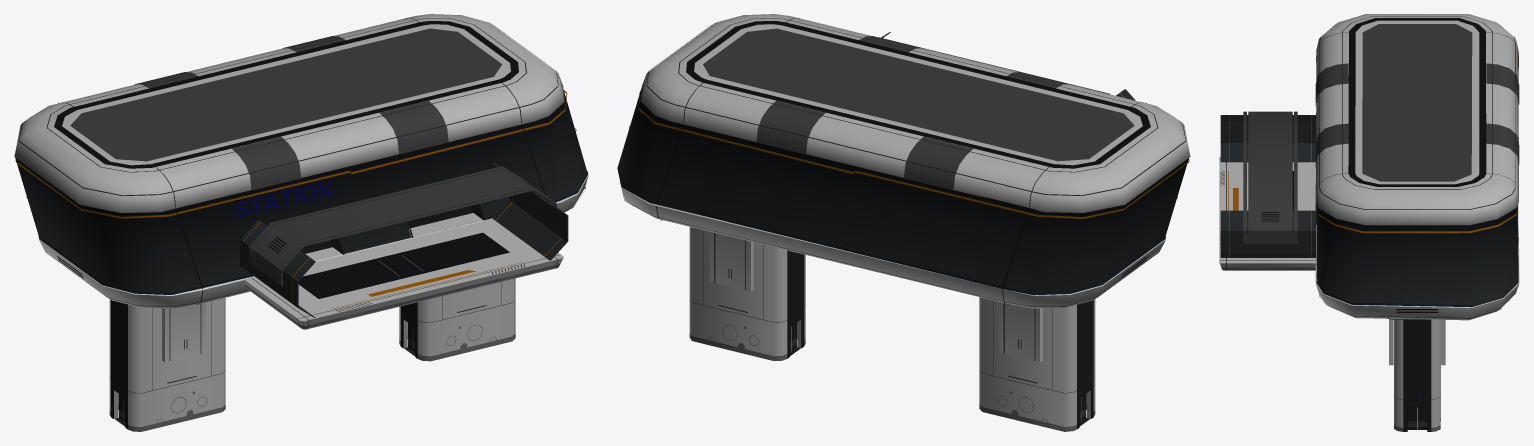
The model's file is W_O_Monorailstation_001_L3.fbx.
The picture shows the model from 3 angles, left to right: view 1: azimuth 30°, elevation 25°; view 2: azimuth 150°, elevation 25°; view 3: azimuth 270°, elevation 25°; orthographic projection. The views are drawn at different scales.
Parts seen in each view (by area): view 1: W_O_Monorailstation_001_L3; view 2: W_O_Monorailstation_001_L3; view 3: W_O_Monorailstation_001_L3.
Part boxes in pixels (box(x1,y1,x2,y2)): W_O_Monorailstation_001_L3: box(14, 14, 588, 431); W_O_Monorailstation_001_L3: box(617, 14, 1190, 431); W_O_Monorailstation_001_L3: box(1219, 14, 1519, 431).
Bounding box in the file's own units: 38.56 × 20.88 × 23.67.
